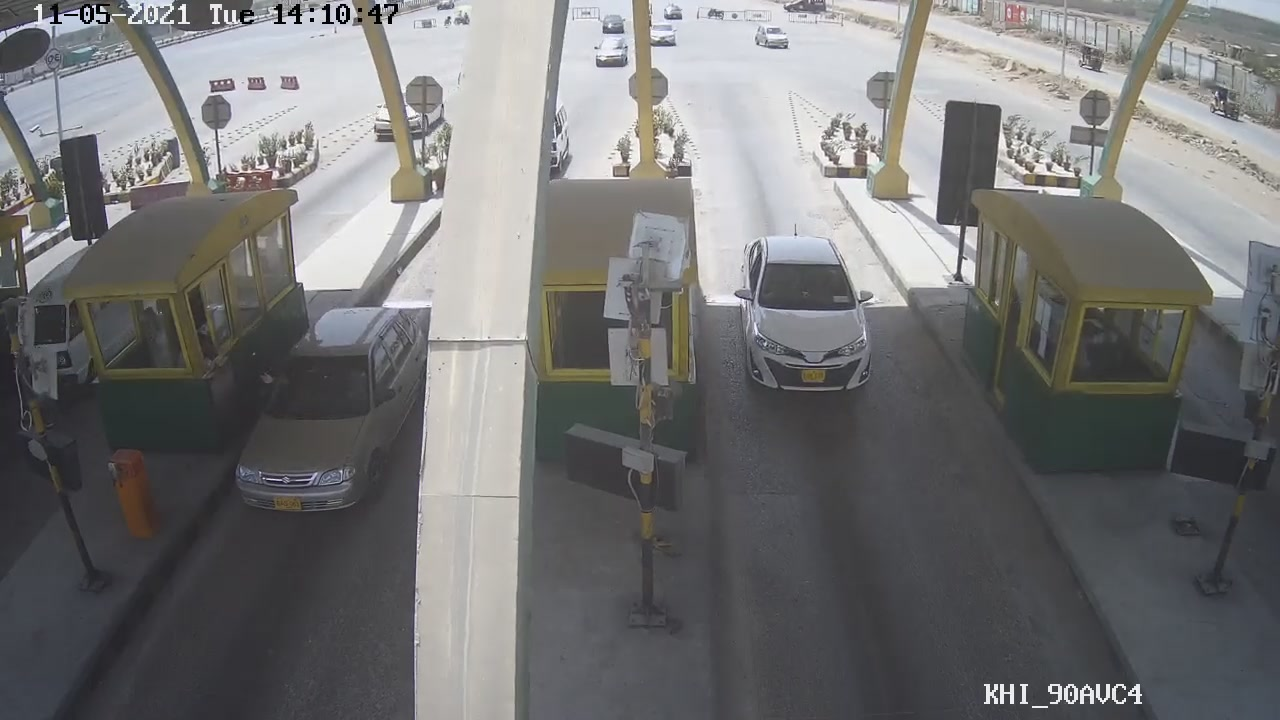F1: (733, 232, 879, 398)
